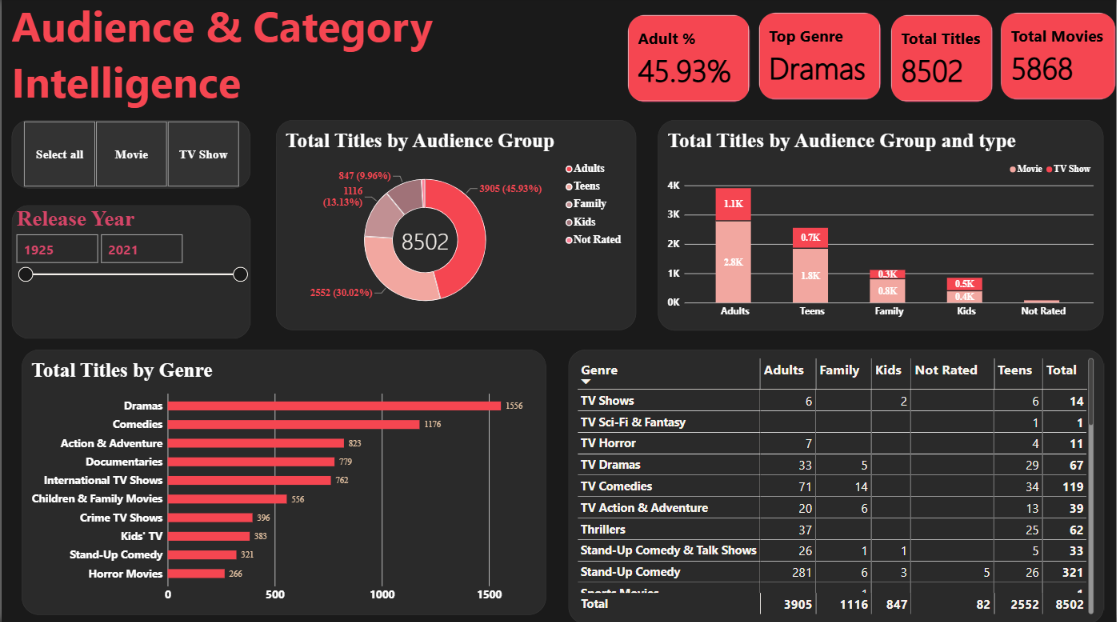

What the dashboard file says about the page in this screenshot:
{"tool":"powerbi","page":{"name":"Audience Insights","canvas":[1920,1080],"ordinal":3},"visuals":[{"type":"cardVisual","fields":{"Data":["Dataset.Total Titles"]},"box":[1532.4,30.9,175.6,150.5],"z":0},{"type":"textbox","box":[17.4,0,793.2,212.3],"z":1000},{"type":"cardVisual","fields":{"Data":["Dataset.Adult %"]},"box":[1078.9,30.9,210.4,150.5],"z":2000},{"type":"cardVisual","fields":{"Data":["Dataset.Top Genre"]},"box":[1304.7,27,210.4,150.5],"z":3000},{"type":"cardVisual","fields":{"Data":["Dataset.Total Movies"]},"box":[1721.6,27,198.8,150.5],"z":4000},{"type":"donutChart","fields":{"Category":["Dataset.Audience Group"],"Y":["Dataset.Total Titles"]},"box":[472.9,212.3,621,362.4],"z":5000},{"type":"clusteredBarChart","title":"Total Titles by Genre","fields":{"Category":["Dataset.listed_in"],"Y":["Dataset.Total Titles"]},"box":[34.7,608,903.3,457.4],"z":6000},{"type":"columnChart","fields":{"Category":["Dataset.Audience Group"],"Series":["Dataset.type"],"Y":["Dataset.Total Titles"]},"box":[1131.8,211.9,768.2,362.8],"z":7000},{"type":"pivotTable","fields":{"Columns":["Dataset.Audience Group"],"Rows":["Dataset.Genre"],"Values":["Dataset.Total Titles"]},"box":[976.6,608,922.6,472.9],"z":8000},{"type":"slicer","fields":{"Values":["Dataset.type"]},"box":[17,211.9,411.1,117.7],"z":9000},{"type":"slicer","fields":{"Values":["Dataset.release_year"]},"box":[17.4,359,411.1,229.7],"z":10000}]}

Visuals, with their boxes in screenshot pixels (x1, y1, x2, y2), scaled from the page's 1920x1080 canvas onto the 1117x622 screenshot:
cardVisual - Dataset.Total Titles: {"x1": 892, "y1": 18, "x2": 994, "y2": 104}
textbox: {"x1": 10, "y1": 0, "x2": 472, "y2": 122}
cardVisual - Dataset.Adult %: {"x1": 628, "y1": 18, "x2": 750, "y2": 104}
cardVisual - Dataset.Top Genre: {"x1": 759, "y1": 16, "x2": 881, "y2": 102}
cardVisual - Dataset.Total Movies: {"x1": 1002, "y1": 16, "x2": 1116, "y2": 102}
donutChart - Dataset.Audience Group x Dataset.Total Titles: {"x1": 275, "y1": 122, "x2": 636, "y2": 331}
"Total Titles by Genre" clusteredBarChart: {"x1": 20, "y1": 350, "x2": 546, "y2": 614}
columnChart - Dataset.Audience Group x Dataset.type: {"x1": 658, "y1": 122, "x2": 1105, "y2": 331}
pivotTable - Dataset.Audience Group x Dataset.Genre: {"x1": 568, "y1": 350, "x2": 1105, "y2": 621}
slicer - Dataset.type: {"x1": 10, "y1": 122, "x2": 249, "y2": 190}
slicer - Dataset.release_year: {"x1": 10, "y1": 207, "x2": 249, "y2": 339}
